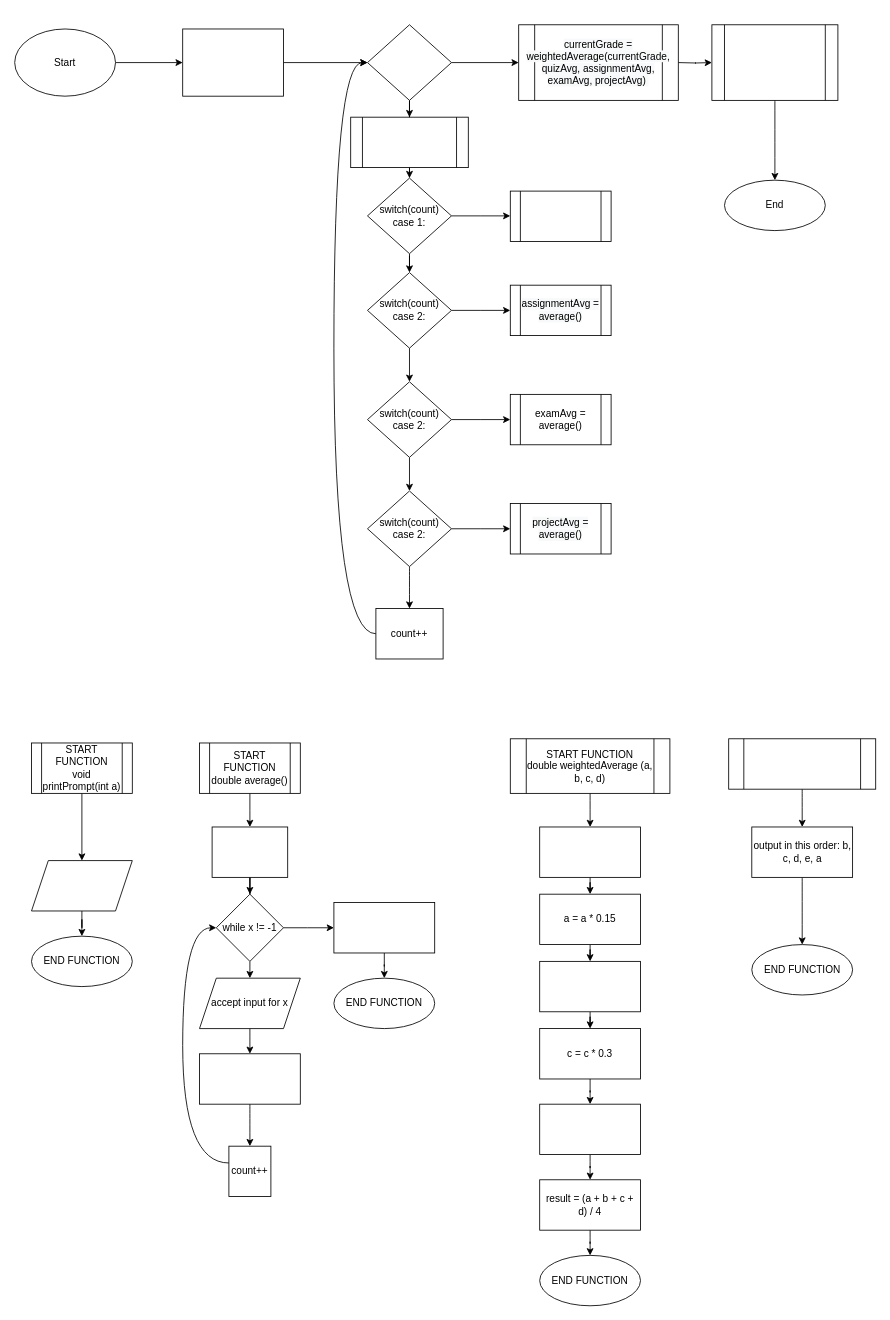
The diagram is 890 pixels wide and 1320 high, and some of its shapes have lost their labels. The shapes that lost their labels are listed below. From the top down, each one's box as (x1, y1, x2, y2) in pixels, then its label:
(182, 28, 284, 96): double quizAvg, assignmentAvg, examAvg, projectAvg, currentGrade int count = 1;
(367, 24, 452, 100): while(count<=4)
(711, 24, 838, 100): void outputAverages (currentGrade, quizAvg, assignmentAvg, examAvg, projectAvg
(350, 116, 468, 168): printPrompt(int)
(509, 190, 611, 242): quizAvg = average()
(728, 738, 876, 789): void outputAverage(a, b, c, d, e)
(211, 826, 288, 877): int x, count = 0, sum = 0, average
(539, 826, 640, 877): int result
(31, 860, 132, 911): Prompt for input of score values, -1 to stop.
(333, 902, 435, 953): average = sum / count
(539, 961, 640, 1012): b= b * 0.1
(199, 1053, 300, 1104): sum = sum + num
(539, 1103, 640, 1155): d = d * 0.25
